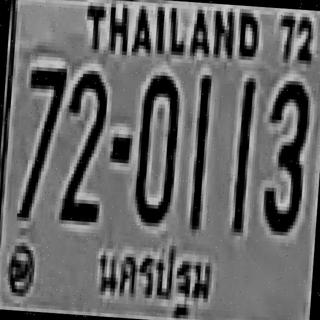N00: (132, 71, 179, 224)
N01: (230, 77, 255, 229), (187, 74, 209, 229), (188, 74, 209, 218)
N02: (59, 67, 106, 217)
N03: (259, 76, 310, 233)
N07: (18, 63, 66, 219), (20, 63, 65, 208), (23, 64, 65, 171)
P28: (92, 238, 221, 320)
